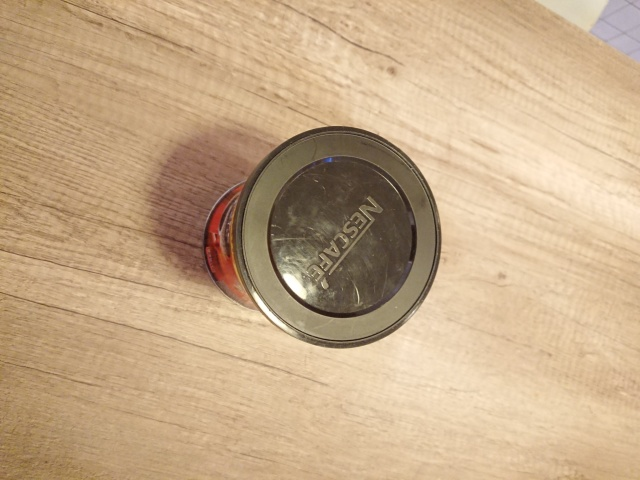Nescafe Classic 225g: (199, 122, 447, 353)
